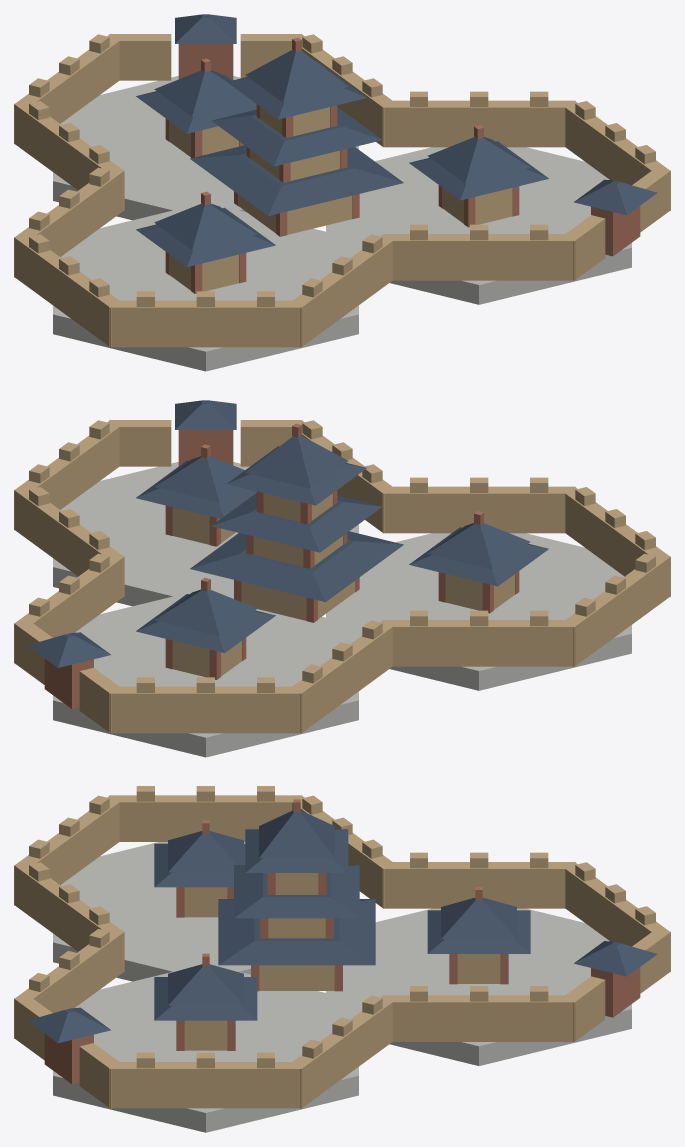
File: castle-medium.glb
3 views of the same model, one above another, from view 1: azimuth 30°, elevation 25°; view 2: azimuth 150°, elevation 25°; view 3: azimuth 270°, elevation 25° (orthographic).
Visible parts, largest first — view 1: platform2, platform1, platform0, wall10, wall6, wall5, b0_eave0, wall9, b0_eave1, wall11, wall3, wall8 (+25 smaller); view 2: platform2, platform0, platform1, wall2, wall8, wall11, b0_eave0, wall9, b0_eave1, wall3, wall0, wall5 (+25 smaller); view 3: platform1, platform0, platform2, wall4, wall0, wall3, b0_eave0, wall9, b0_eave1, wall5, wall6, wall11 (+25 smaller).
Part boxes in pixels (left/top/right/bottom): platform2: left=53, top=210, right=358, bottom=371; platform1: left=326, top=147, right=631, bottom=304; platform0: left=53, top=76, right=358, bottom=220; wall10: left=109, top=300, right=302, bottom=347; wall6: left=382, top=234, right=575, bottom=280; wall5: left=382, top=100, right=575, bottom=147; b0_eave0: left=190, top=145, right=403, bottom=215; wall9: left=14, top=234, right=119, bottom=347; b0_eave1: left=211, top=107, right=382, bottom=166; wall11: left=292, top=234, right=394, bottom=347; wall3: left=14, top=101, right=124, bottom=210; wall8: left=14, top=168, right=124, bottom=277; platform2: left=326, top=533, right=631, bottom=690; platform0: left=53, top=596, right=358, bottom=757; platform1: left=53, top=462, right=358, bottom=606; wall2: left=109, top=686, right=302, bottom=733; wall8: left=382, top=620, right=575, bottom=666; wall11: left=382, top=486, right=575, bottom=533; b0_eave0: left=190, top=531, right=403, bottom=601; wall9: left=560, top=554, right=670, bottom=666; b0_eave1: left=211, top=493, right=382, bottom=552; wall3: left=292, top=620, right=395, bottom=733; wall0: left=14, top=554, right=124, bottom=663; wall5: left=14, top=487, right=124, bottom=596; platform1: left=53, top=969, right=358, bottom=1132; platform0: left=326, top=908, right=631, bottom=1065; platform2: left=53, top=842, right=250, bottom=981; wall4: left=109, top=1062, right=302, bottom=1108; wall0: left=382, top=995, right=575, bottom=1041; wall3: left=382, top=862, right=575, bottom=908; b0_eave0: left=218, top=899, right=375, bottom=965; wall9: left=109, top=795, right=302, bottom=841; b0_eave1: left=234, top=865, right=359, bottom=918; wall5: left=287, top=995, right=396, bottom=1108; wall6: left=14, top=928, right=124, bottom=1038; wall11: left=14, top=862, right=124, bottom=971.
Size of the model in its own units: 3.67 by 1.15 by 3.61.
